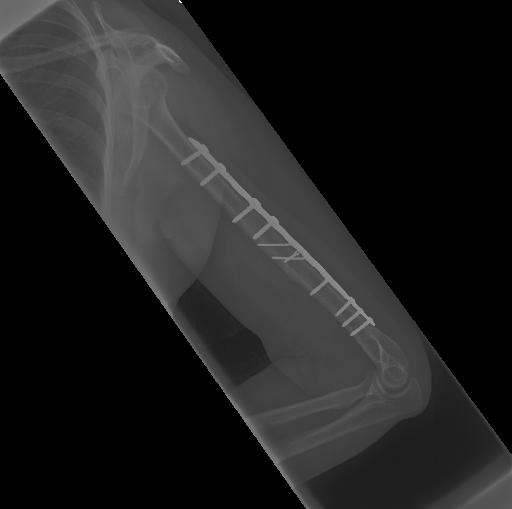implant: (177, 133, 376, 341)
